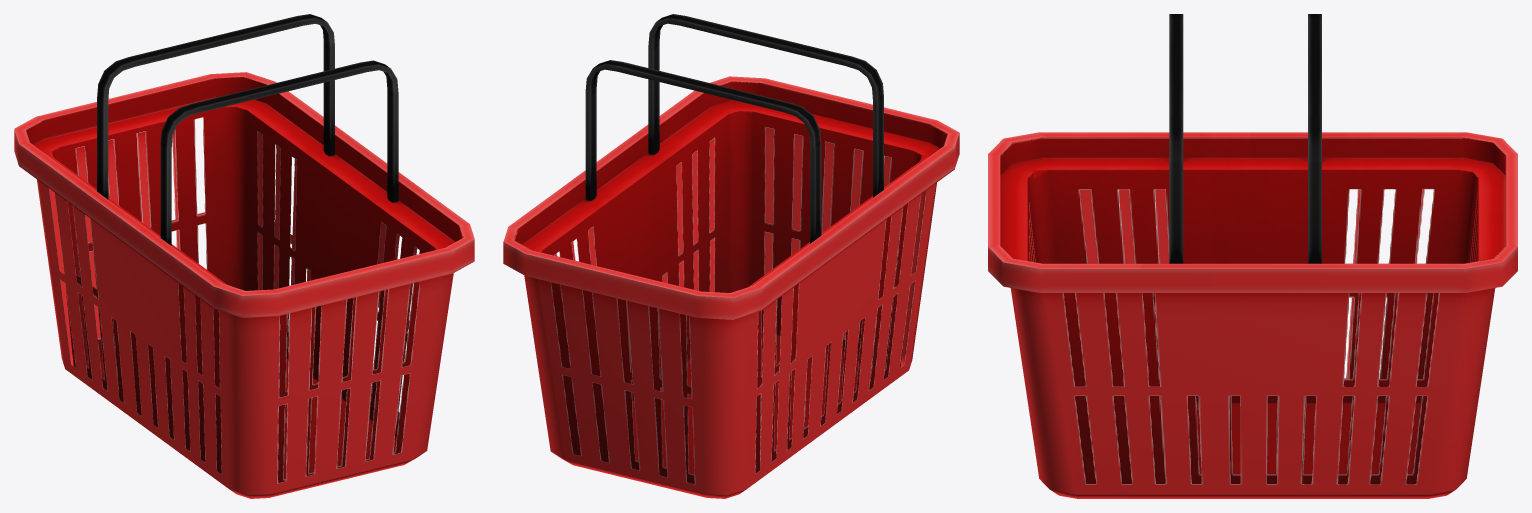
The model's file is shopping_basket.fbx.
3 views of the same model, side by side, from view 1: azimuth 30°, elevation 25°; view 2: azimuth 150°, elevation 25°; view 3: azimuth 270°, elevation 25° (orthographic). The views are drawn at different scales.
Visible parts, largest first — view 1: basket_mesh, basket_handle0_mesh, basket_handle1_mesh; view 2: basket_mesh, basket_handle1_mesh, basket_handle0_mesh; view 3: basket_mesh, basket_handle0_mesh, basket_handle1_mesh.
Boxes of the visible parts, x1,y1,x2,y2 form: basket_mesh: [14, 72, 474, 498]; basket_handle0_mesh: [160, 60, 398, 245]; basket_handle1_mesh: [97, 14, 334, 199]; basket_mesh: [503, 76, 959, 498]; basket_handle1_mesh: [585, 60, 821, 243]; basket_handle0_mesh: [648, 14, 883, 197]; basket_mesh: [988, 132, 1517, 498]; basket_handle0_mesh: [1169, 14, 1183, 263]; basket_handle1_mesh: [1308, 14, 1321, 263].
Size of the model in its own units: 1.31 by 1.73 by 2.14.
